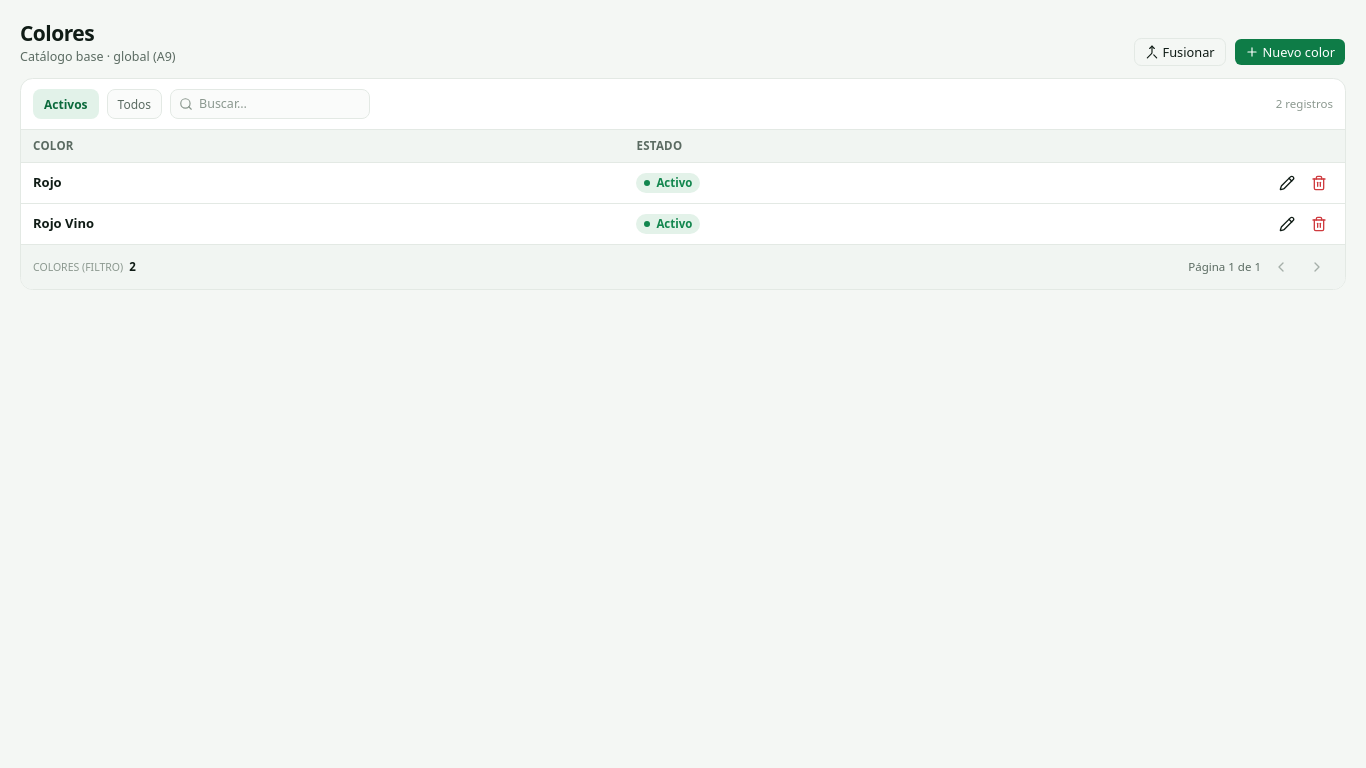
<ColoresPagina> › ofrece la acción Fusionar a quien administra y abre el diálogo
Click the button with test id "abrir-fusion-colores" at (1180, 52), box [1134,38,1226,66]
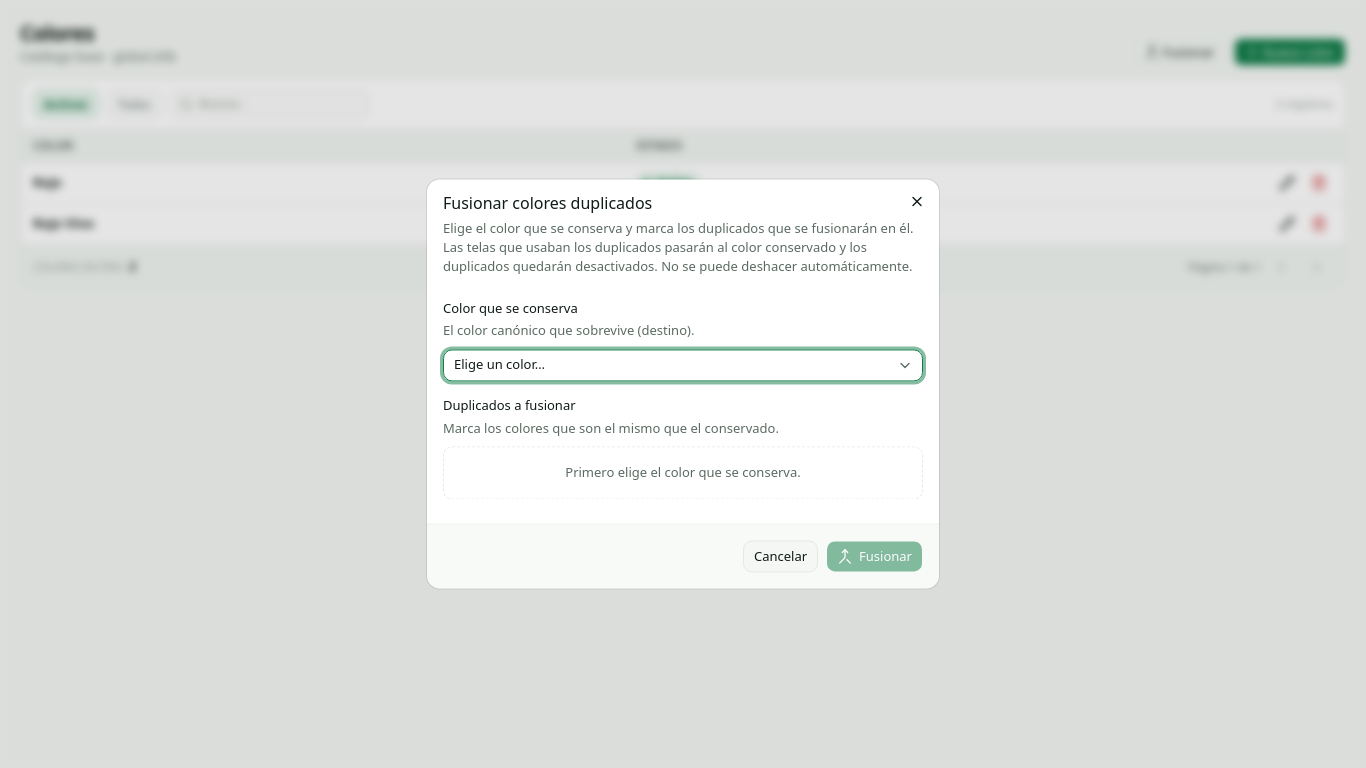
expect the heading "Fusionar colores duplicados" is shown: met, box [443,192,652,214]
